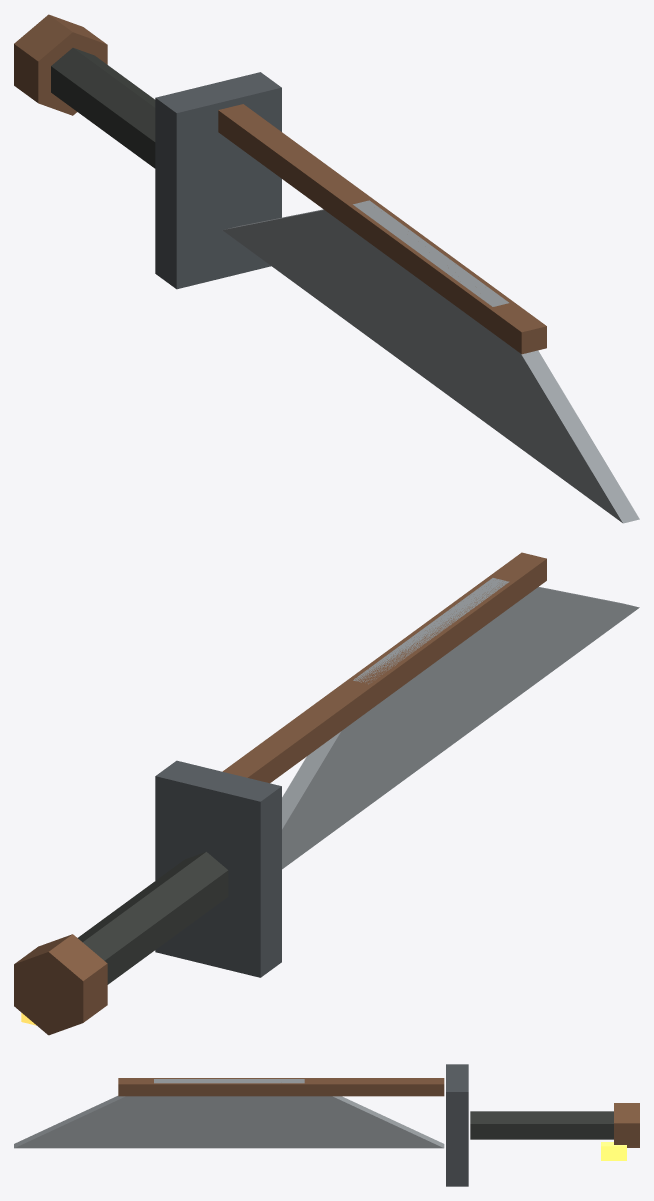
Rendered from wpn_sword.glb.
3 renders of one model, top to bottom at view 1: azimuth 30°, elevation 25°; view 2: azimuth 150°, elevation 25°; view 3: azimuth 270°, elevation 25°, orthographic. The views are drawn at different scales.
Parts seen in each view (by area): view 1: blade, guard, spine_rib, grip, pommel; view 2: blade, guard, spine_rib, grip, pommel; view 3: blade, spine_rib, grip, guard, pommel, charm.
Boxes of the visible parts, bbox=[...] form: blade: bbox=[222, 200, 639, 523]; guard: bbox=[155, 72, 281, 289]; spine_rib: bbox=[218, 104, 546, 354]; grip: bbox=[51, 48, 155, 168]; pommel: bbox=[14, 14, 107, 115]; blade: bbox=[282, 578, 639, 869]; guard: bbox=[155, 760, 281, 977]; spine_rib: bbox=[222, 552, 546, 783]; grip: bbox=[78, 852, 228, 984]; pommel: bbox=[14, 934, 107, 1035]; blade: bbox=[14, 1079, 444, 1148]; spine_rib: bbox=[118, 1078, 444, 1096]; grip: bbox=[470, 1111, 613, 1139]; guard: bbox=[446, 1064, 468, 1186]; pommel: bbox=[614, 1103, 639, 1147]; charm: bbox=[601, 1142, 626, 1160].
Size of the model in its own units: 0.1 by 0.16 by 0.96.
